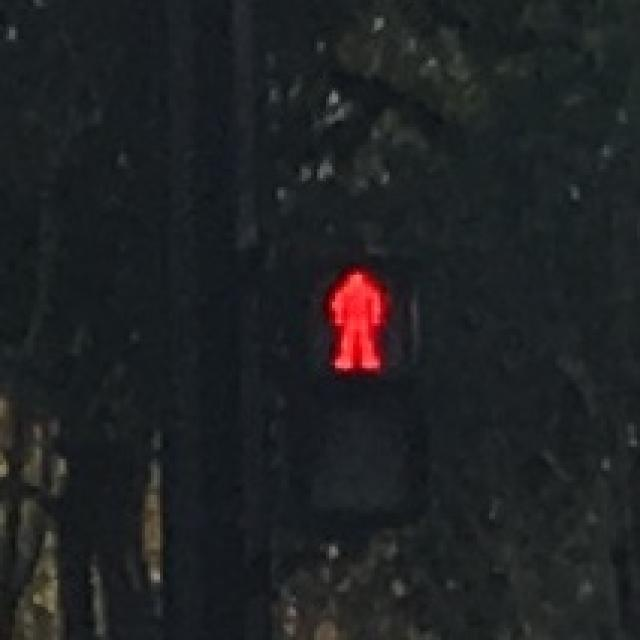red_light: (302, 256, 411, 378)
